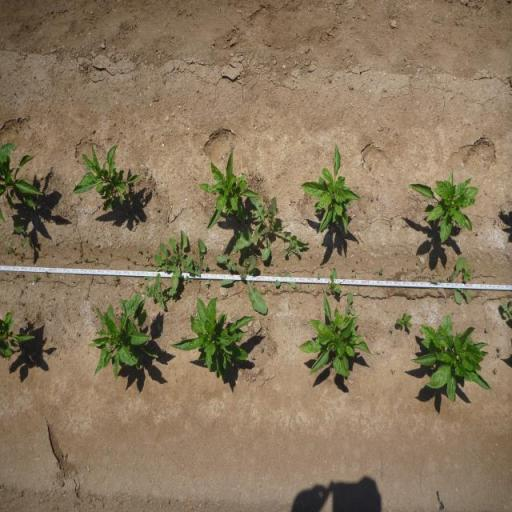plant: (410, 314, 494, 406), (169, 295, 257, 381), (296, 292, 373, 382), (86, 294, 158, 382), (408, 166, 480, 245), (300, 142, 360, 236), (197, 150, 261, 233), (70, 142, 140, 211), (0, 142, 45, 212), (0, 310, 35, 358)
weed: (232, 197, 312, 261), (213, 252, 269, 317), (168, 229, 194, 290), (448, 255, 473, 308), (145, 238, 172, 281), (186, 236, 210, 278), (146, 274, 170, 311), (13, 219, 34, 255), (274, 271, 296, 290), (326, 270, 343, 294), (396, 312, 414, 330), (344, 291, 356, 317), (283, 240, 299, 258), (501, 296, 512, 322), (463, 263, 472, 283), (118, 298, 125, 312), (262, 195, 270, 206), (4, 247, 14, 255), (32, 272, 39, 282), (204, 280, 211, 290), (498, 207, 506, 214), (184, 275, 190, 284), (160, 348, 166, 356), (136, 280, 142, 288), (78, 248, 84, 256), (316, 272, 322, 280), (378, 267, 384, 275), (289, 198, 295, 205), (484, 326, 490, 333), (113, 274, 119, 280), (112, 280, 118, 286), (172, 296, 178, 302), (144, 284, 148, 292), (320, 260, 324, 268), (145, 255, 150, 261), (266, 352, 272, 357), (390, 369, 396, 374), (496, 346, 501, 352), (260, 347, 264, 354), (494, 368, 498, 375), (137, 248, 141, 254), (389, 328, 393, 334), (496, 354, 502, 358), (45, 271, 48, 277), (251, 356, 255, 360), (264, 326, 268, 330), (354, 273, 357, 277), (352, 268, 354, 272)
